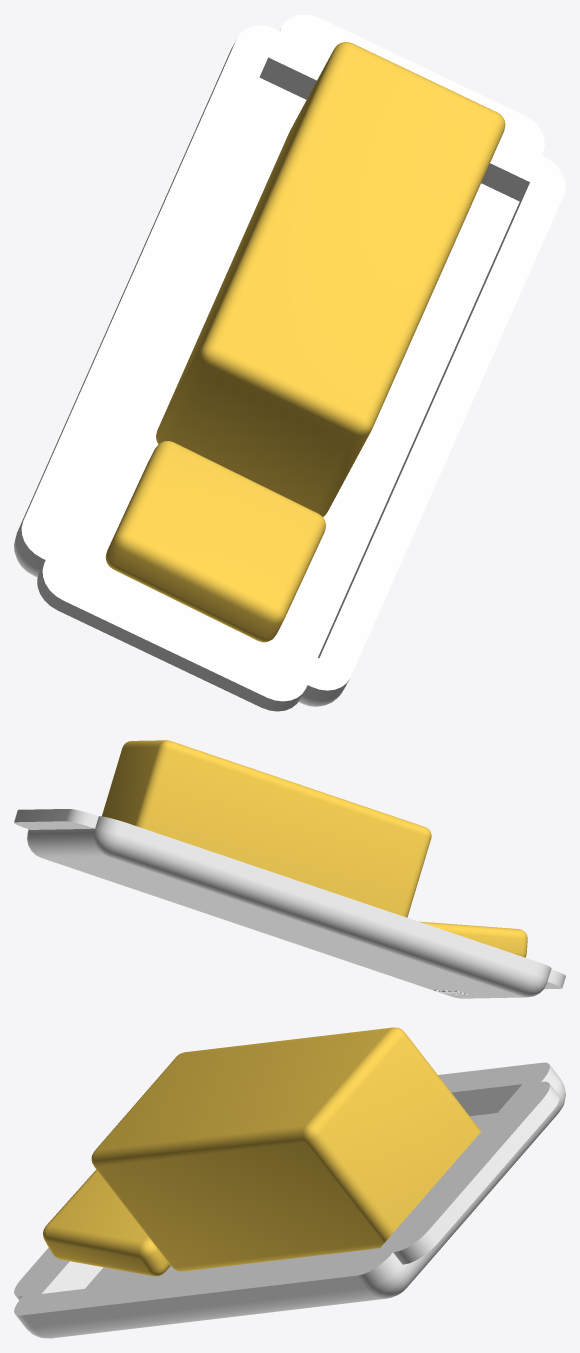
The model's file is butter.fbx.
The picture shows the model from 3 angles, top to bottom: view 1: azimuth 30°, elevation 25°; view 2: azimuth 150°, elevation 25°; view 3: azimuth 270°, elevation 25°; orthographic projection. The views are drawn at different scales.
Parts seen in each view (by area): view 1: Plane.215; view 2: Plane.215; view 3: Plane.215.
Boxes of the visible parts, x1=… form: Plane.215: x1=14, y1=14, x2=565, y2=711; Plane.215: x1=14, y1=740, x2=565, y2=998; Plane.215: x1=14, y1=1027, x2=565, y2=1338.
Size of the model in its own units: 225 by 154 by 190.
1 material, 1 textured.
